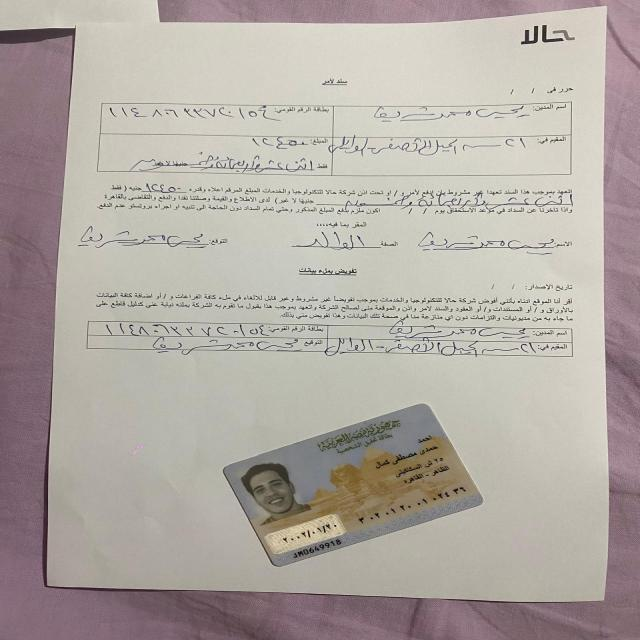ID-cards: (215, 398, 491, 573)
